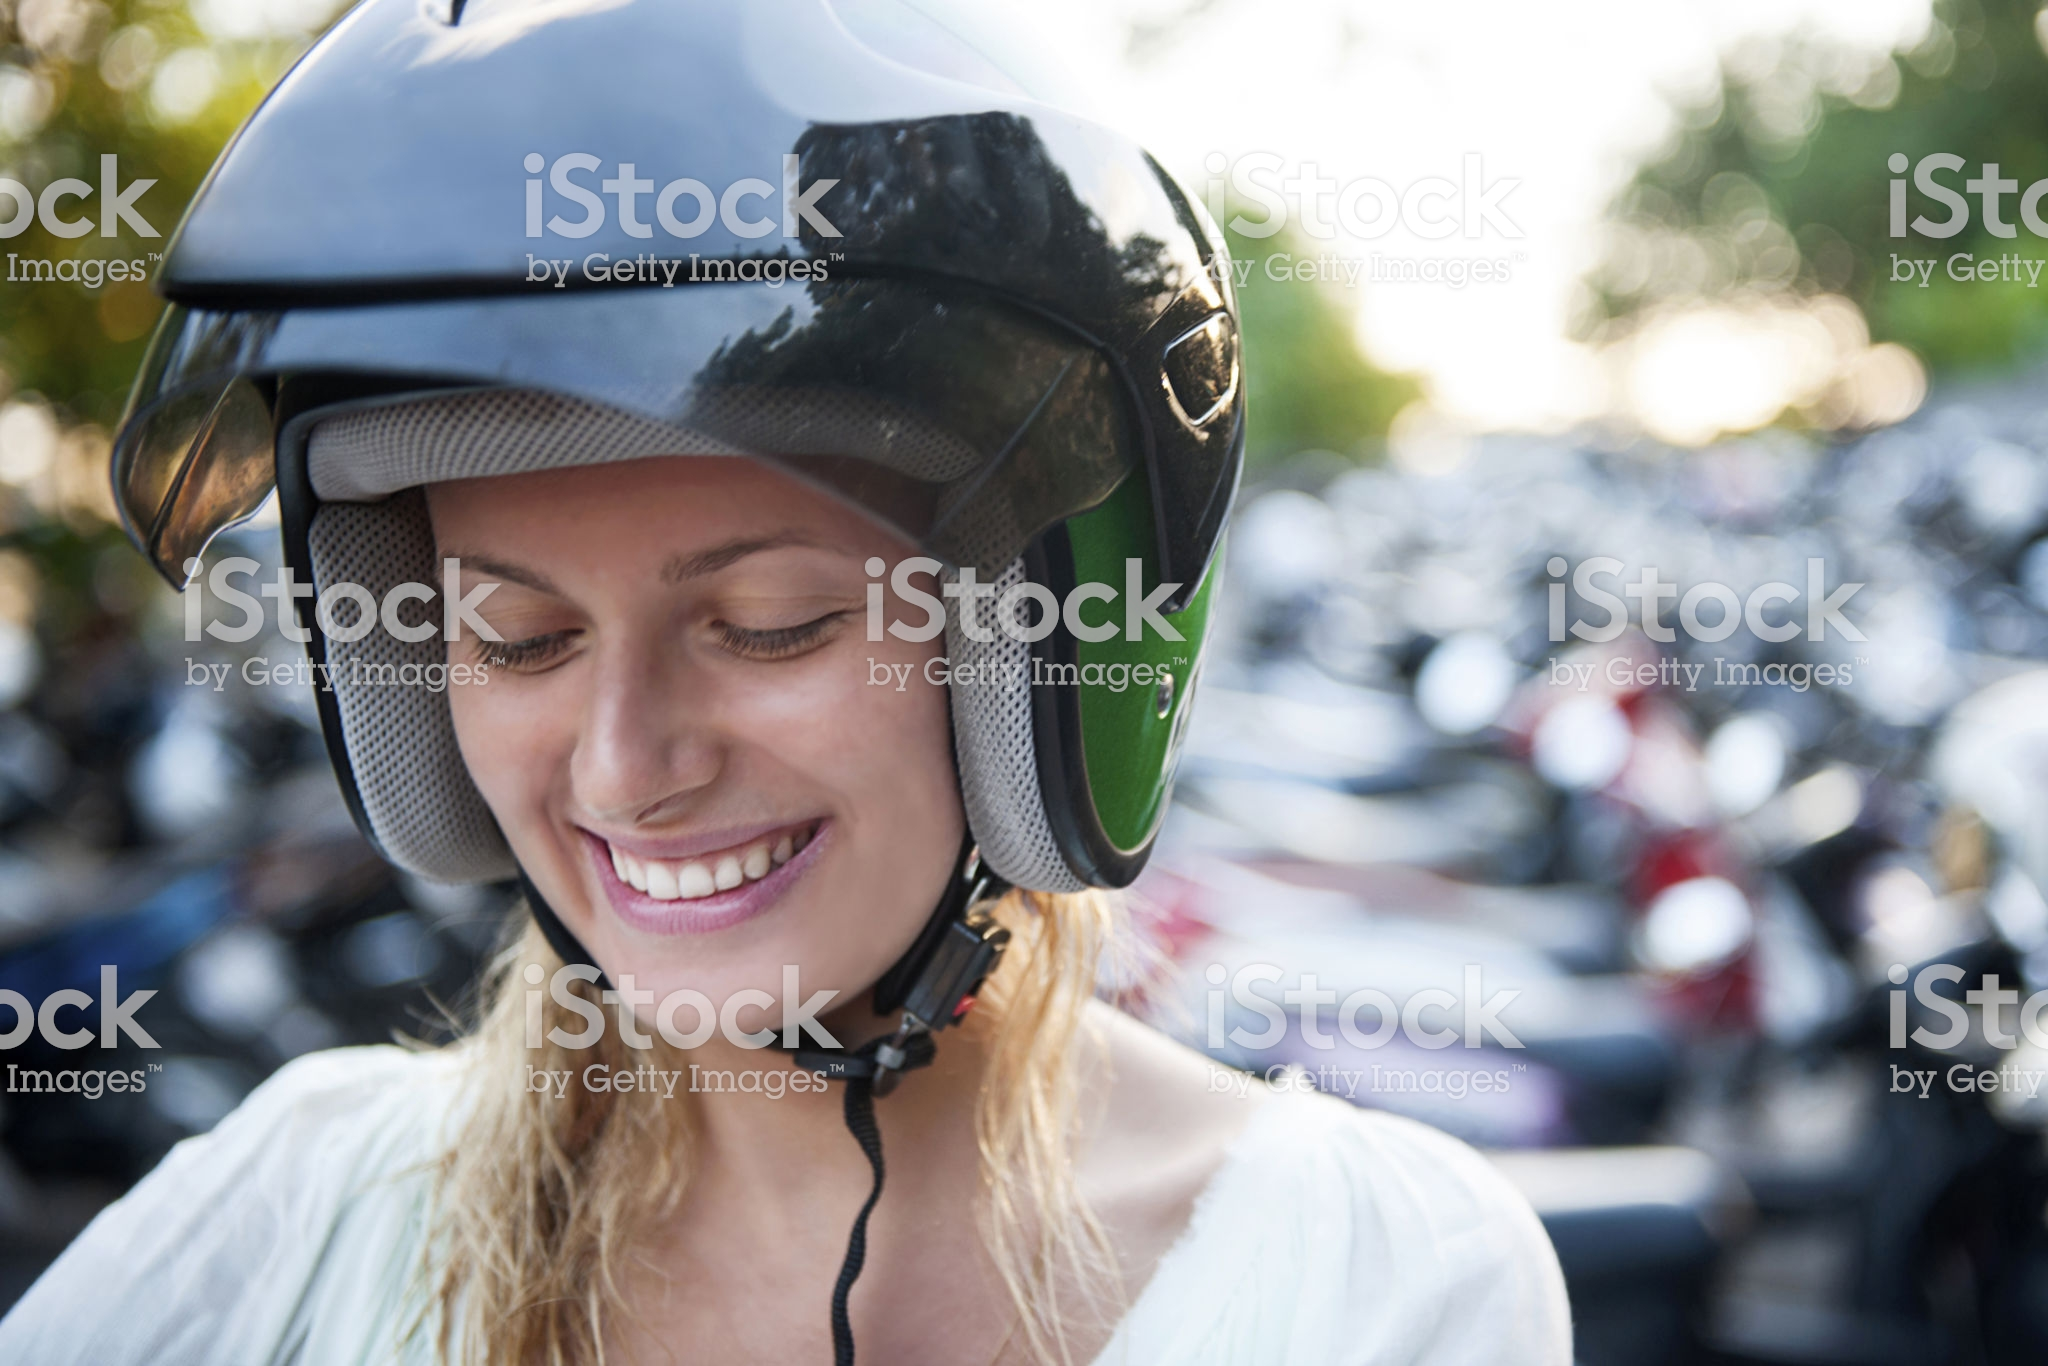helmet: (174, 40, 1271, 927)
